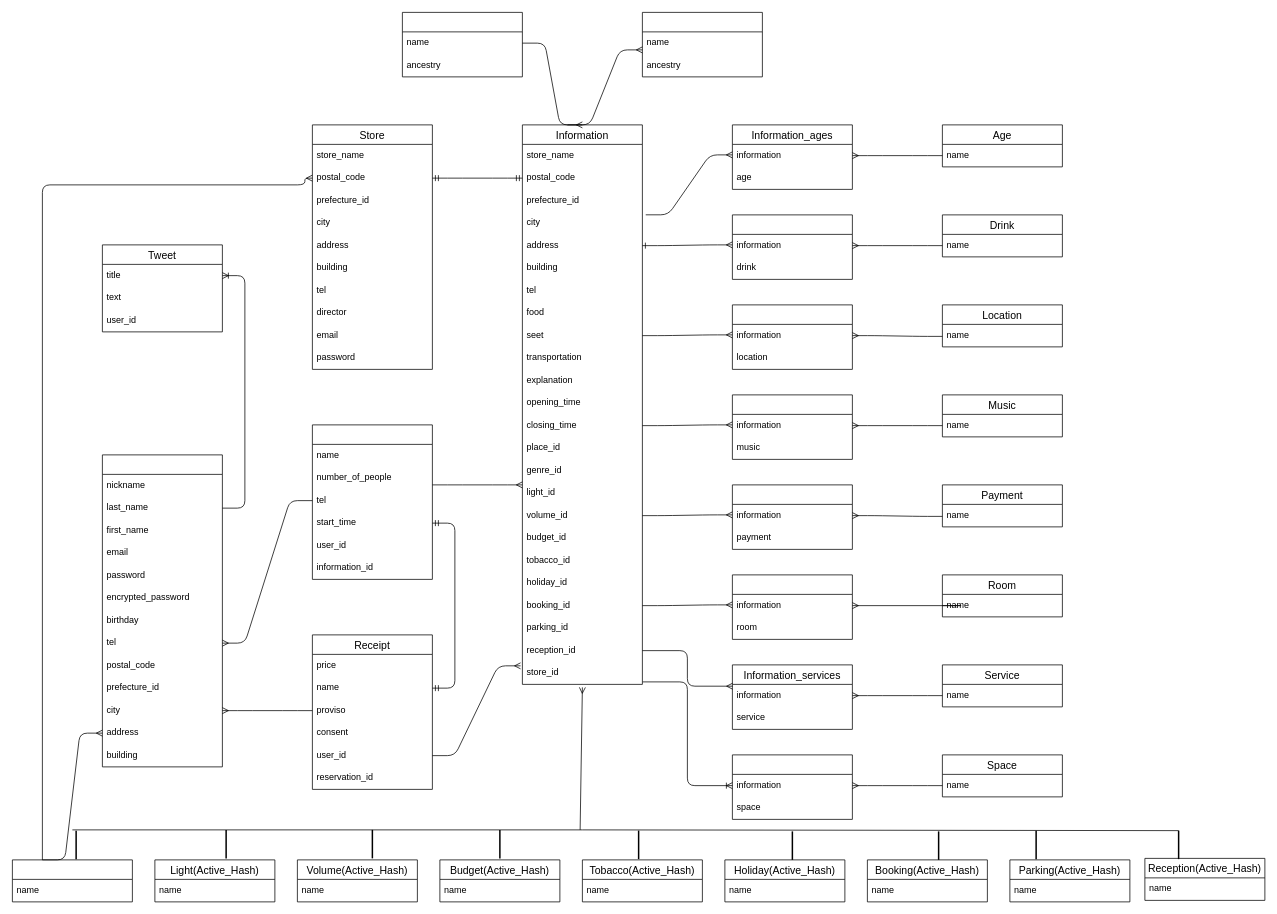
This 1277x914 diagram has some shape labels left out. The shapes that lost their labels are listed below. From the top down, each one's box as (x1, y1, x2, y2) in pixels, then its label:
(402, 12, 522, 77): Place(ancestry)
(642, 12, 762, 77): Genre(ancestry)
(732, 214, 852, 279): Information_drinks
(732, 304, 852, 369): Information_locations
(732, 394, 852, 459): Information_musics
(312, 424, 432, 579): Reservation
(732, 484, 852, 549): Information_payments
(102, 454, 222, 767): User
(732, 574, 852, 639): Information_rooms
(732, 754, 852, 819): Information_spaces
(12, 859, 132, 902): Prefecture(Active_Hash)
